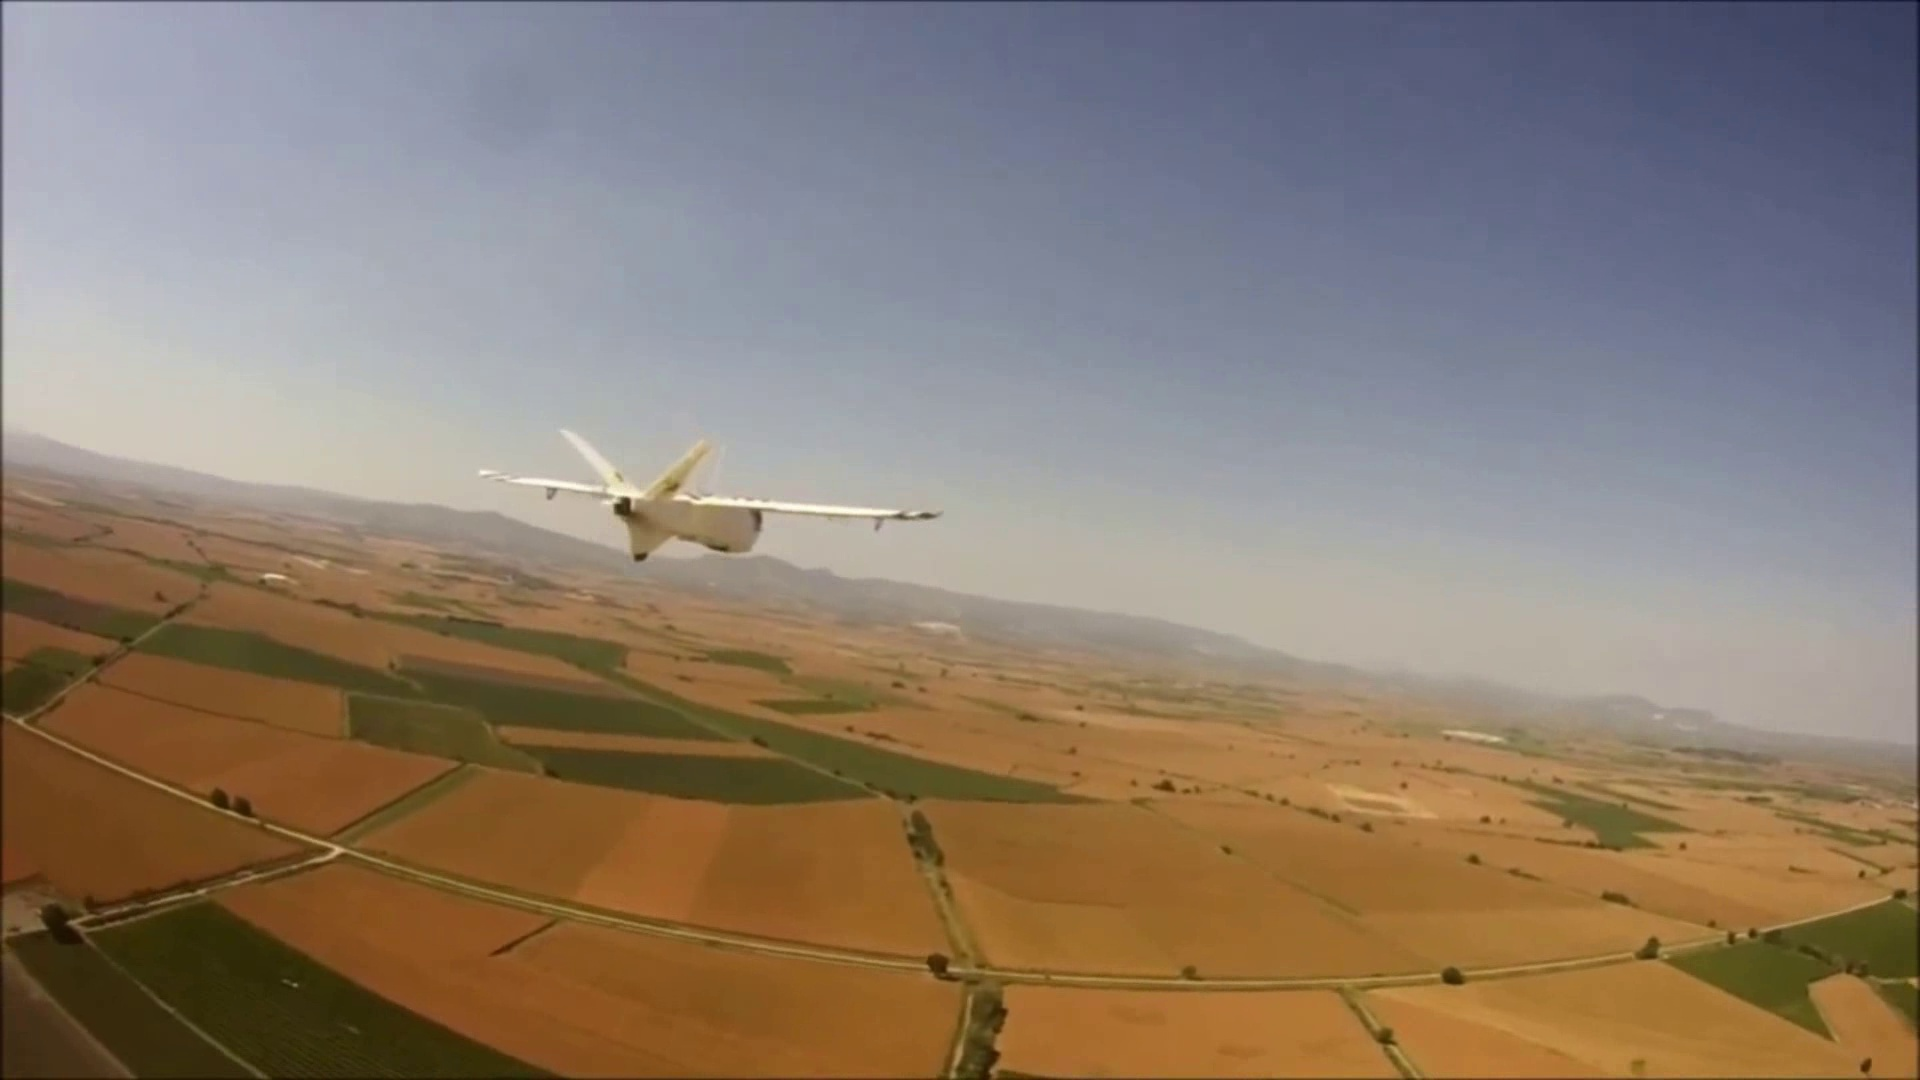airplane: (479, 428, 942, 563)
